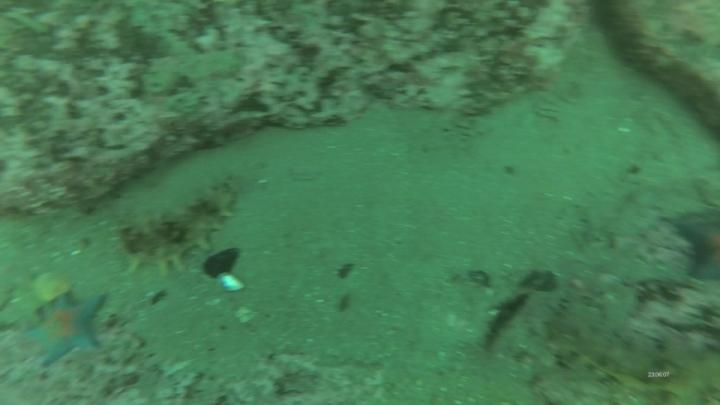holothurian: (115, 179, 241, 280), (579, 343, 720, 405)
starfish: (25, 289, 110, 369)
